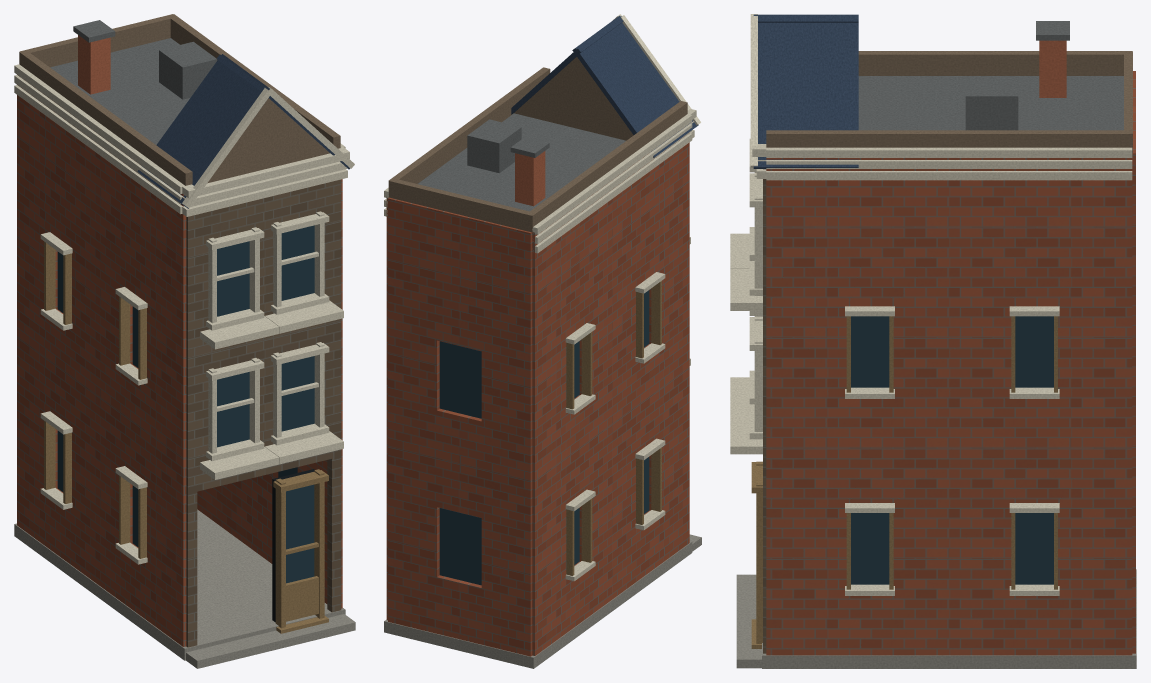
File: VICT29_lod2.glb
The picture shows the model from 3 angles, left to right: view 1: azimuth 30°, elevation 25°; view 2: azimuth 150°, elevation 25°; view 3: azimuth 270°, elevation 25°; orthographic projection. The views are drawn at different scales.
Parts seen in each view (by area): view 1: VICT29_LOD2; view 2: VICT29_LOD2; view 3: VICT29_LOD2.
Boxes of the visible parts, x1,y1,x2,y2 form: VICT29_LOD2: (14,14,355,668); VICT29_LOD2: (384,14,701,668); VICT29_LOD2: (730,14,1136,668).
Bounding box in the file's own units: 3.71 × 11.06 × 6.67.
Materials: 11 (9 with a texture image).
